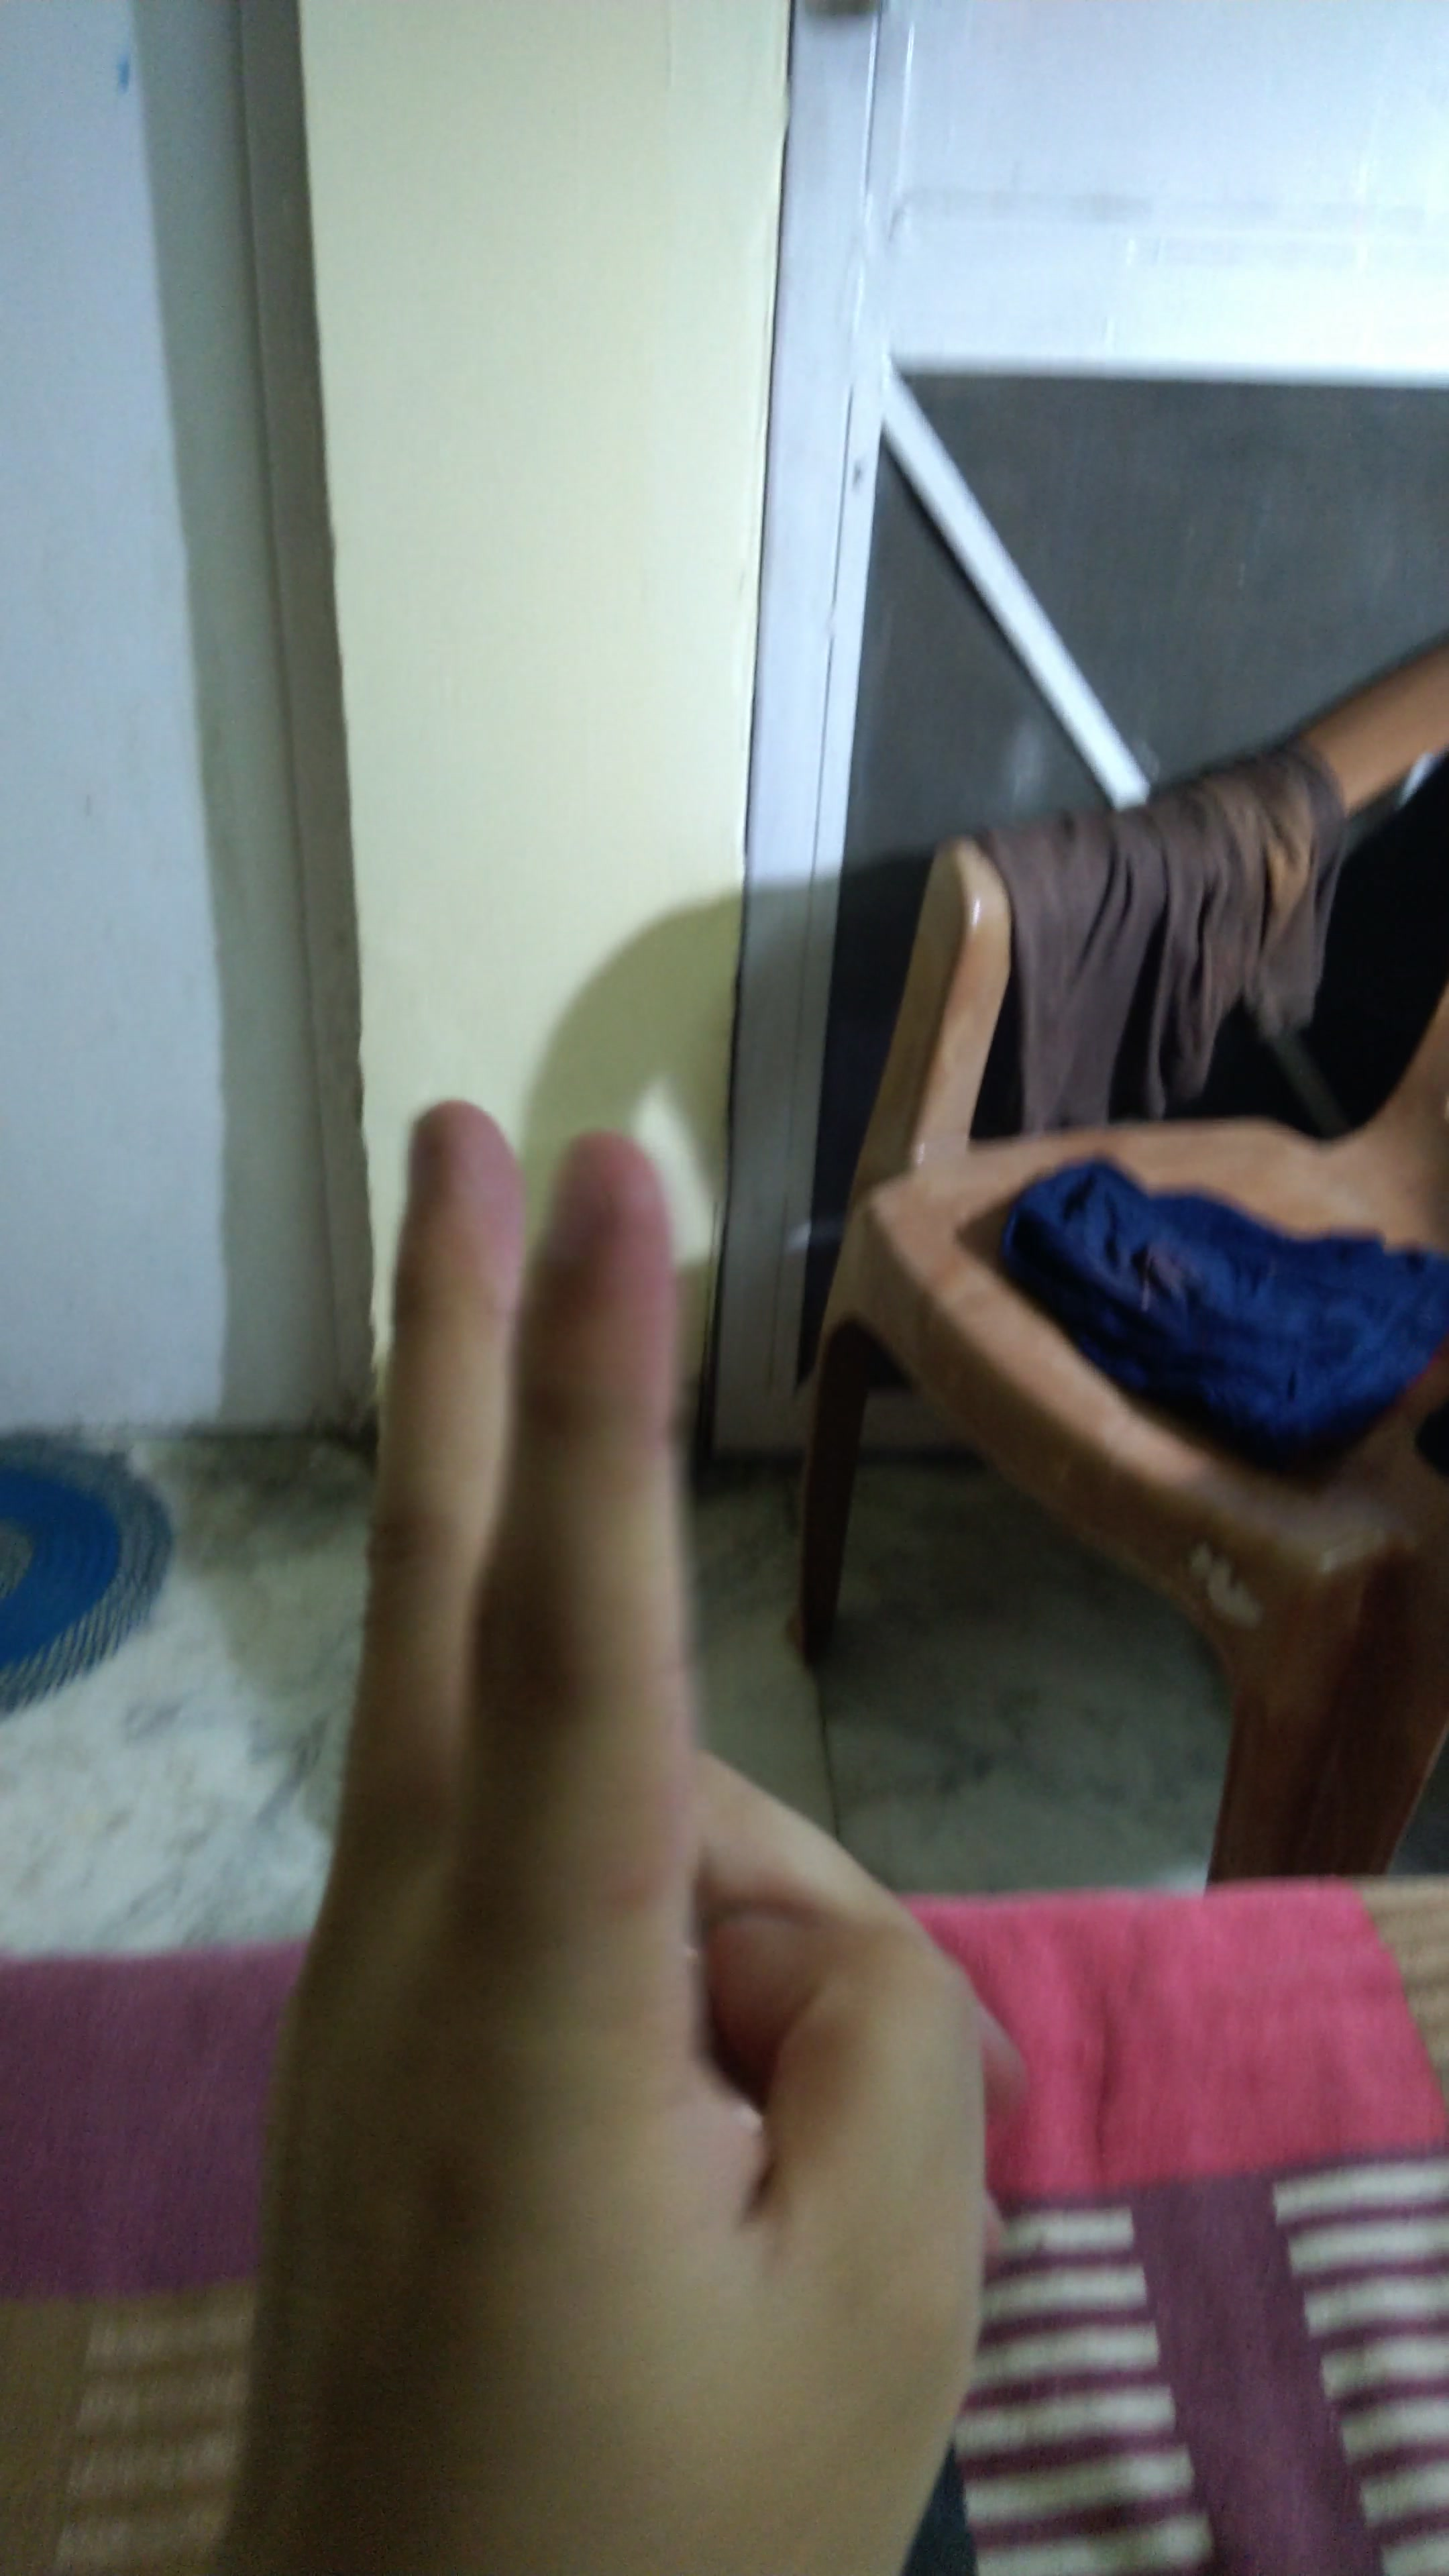hand: (104, 1039, 1154, 2532)
